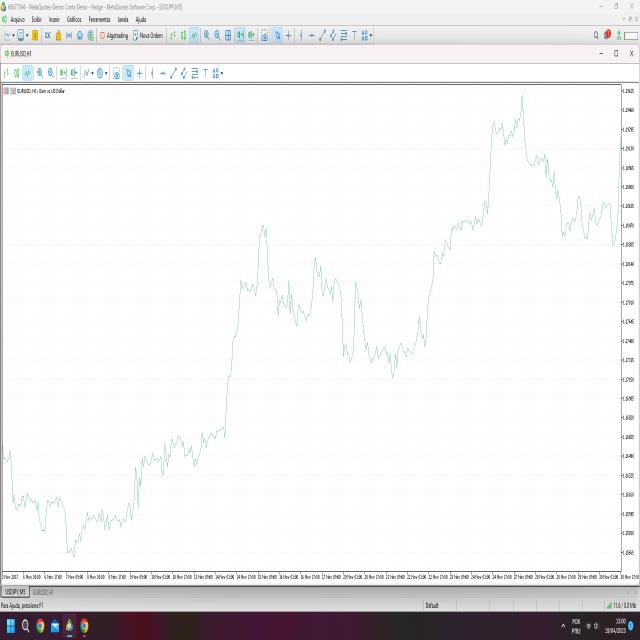bandeira_alta: (223, 258, 260, 444), (482, 94, 515, 219)
